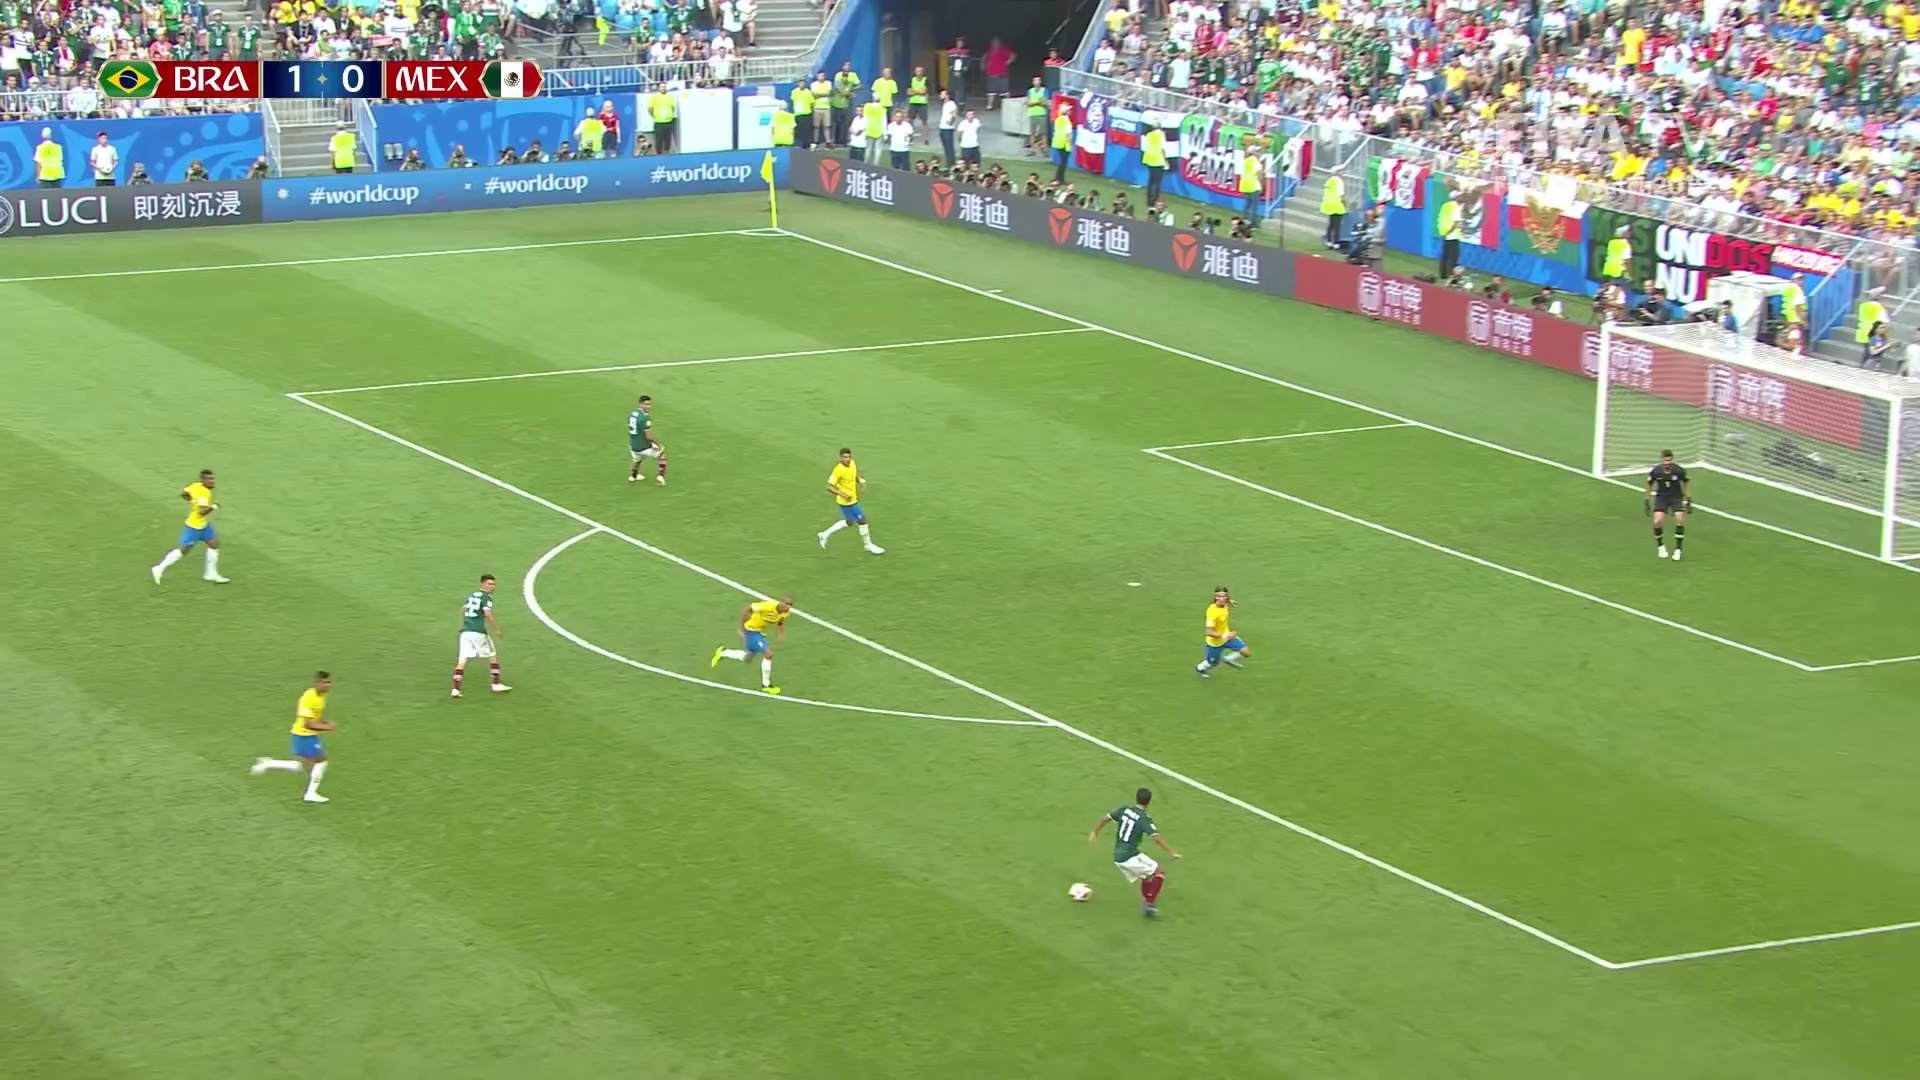ball: (1070, 884, 1091, 901)
person: (249, 675, 336, 799), (1098, 790, 1177, 918), (708, 596, 793, 694), (158, 466, 225, 582), (817, 449, 884, 557), (453, 579, 506, 691), (1639, 448, 1687, 555), (1199, 585, 1249, 671), (628, 396, 670, 488)
